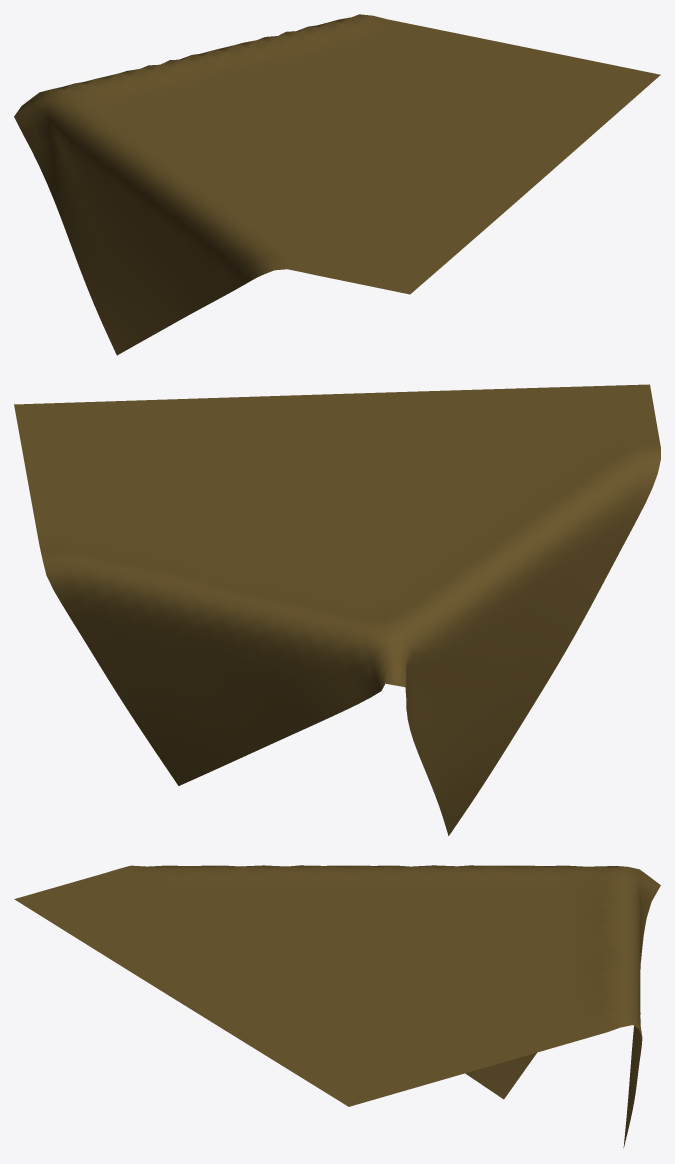
File: Cloth.fbx
3 renders of one model, top to bottom at view 1: azimuth 30°, elevation 25°; view 2: azimuth 150°, elevation 25°; view 3: azimuth 270°, elevation 25°, orthographic. The views are drawn at different scales.
Visible parts, largest first — view 1: Plane; view 2: Plane; view 3: Plane.
Part boxes in pixels (left/top/right/bottom): Plane: left=14, top=14, right=660, bottom=355; Plane: left=14, top=384, right=660, bottom=835; Plane: left=14, top=865, right=660, bottom=1147.
Bounding box in the file's own units: 755 × 327 × 820.
